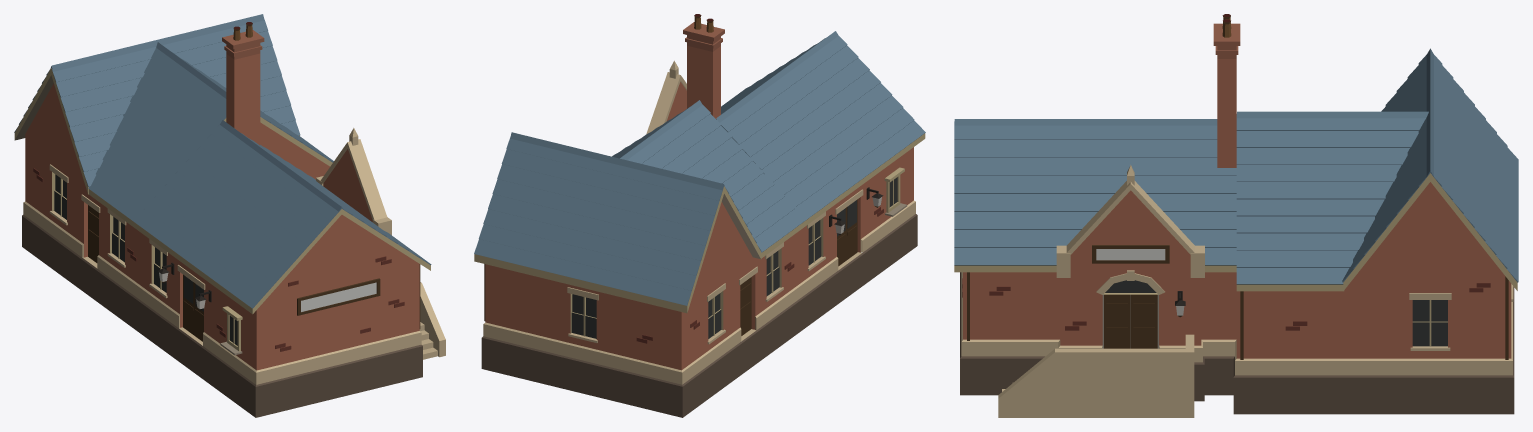
Rendered from country-station-building-2d8f5e.glb.
The picture shows the model from 3 angles, left to right: view 1: azimuth 30°, elevation 25°; view 2: azimuth 150°, elevation 25°; view 3: azimuth 270°, elevation 25°; orthographic projection. The views are drawn at different scales.
Visible parts, largest first — view 1: building, ticket-window-mesh, door-left-leaf, door-right-leaf; view 2: building, ticket-window-mesh, door-right-leaf, door-left-leaf; view 3: building, entrance-left-leaf, entrance-right-leaf.
Boxes of the visible parts, x1=… form: building: x1=14, y1=14, x2=445, y2=417; ticket-window-mesh: x1=220, y1=306, x2=242, y2=355; door-left-leaf: x1=183, y1=274, x2=194, y2=335; door-right-leaf: x1=194, y1=283, x2=203, y2=341; building: x1=474, y1=14, x2=925, y2=417; ticket-window-mesh: x1=884, y1=167, x2=907, y2=216; door-right-leaf: x1=846, y1=199, x2=857, y2=260; door-left-leaf: x1=837, y1=208, x2=846, y2=266; building: x1=954, y1=14, x2=1518, y2=417; entrance-left-leaf: x1=1104, y1=294, x2=1130, y2=348; entrance-right-leaf: x1=1131, y1=294, x2=1157, y2=348.
Size of the model in its own units: 8.44 by 10.61 by 15.99.
